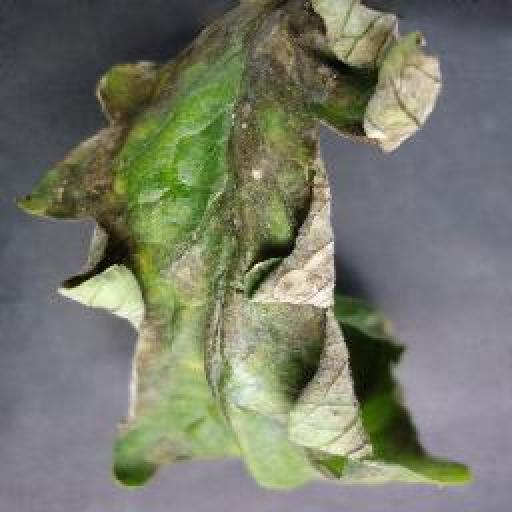disease_tomato: (16, 0, 473, 492)
